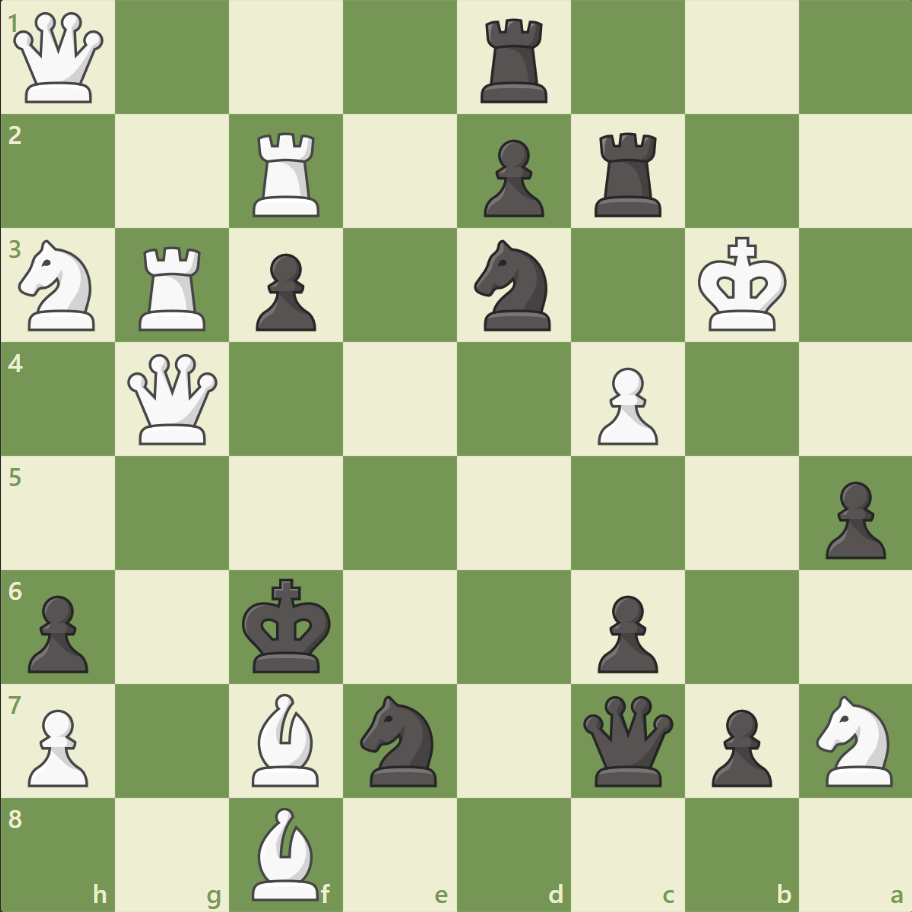B: (244, 801, 328, 904), (244, 687, 328, 790)
K: (692, 231, 792, 339)
N: (806, 688, 903, 791), (11, 234, 108, 337)
P: (20, 700, 95, 791), (588, 359, 662, 450)
Q: (124, 349, 223, 449), (10, 9, 109, 108)
R: (246, 125, 329, 222), (133, 239, 215, 336)
k: (238, 571, 338, 679)
n: (351, 688, 449, 791), (465, 234, 562, 337)
p: (701, 700, 776, 791), (20, 586, 95, 677), (247, 246, 322, 337), (474, 132, 549, 223), (588, 586, 662, 677), (815, 473, 889, 564)
q: (578, 690, 677, 789)
r: (587, 125, 670, 222), (473, 12, 556, 109)
